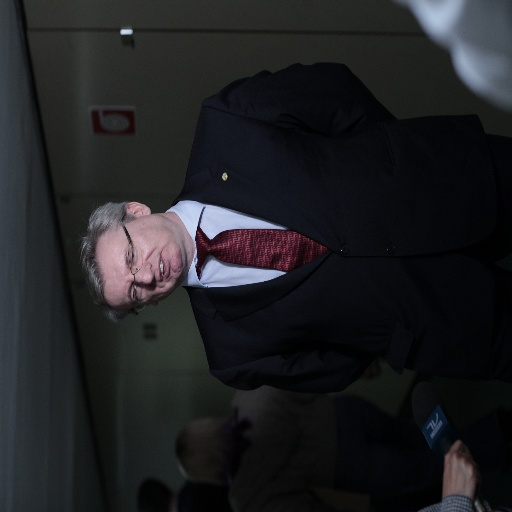hand: (441, 441, 484, 498)
